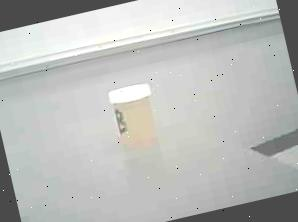Bottle B: (104, 78, 166, 158)
